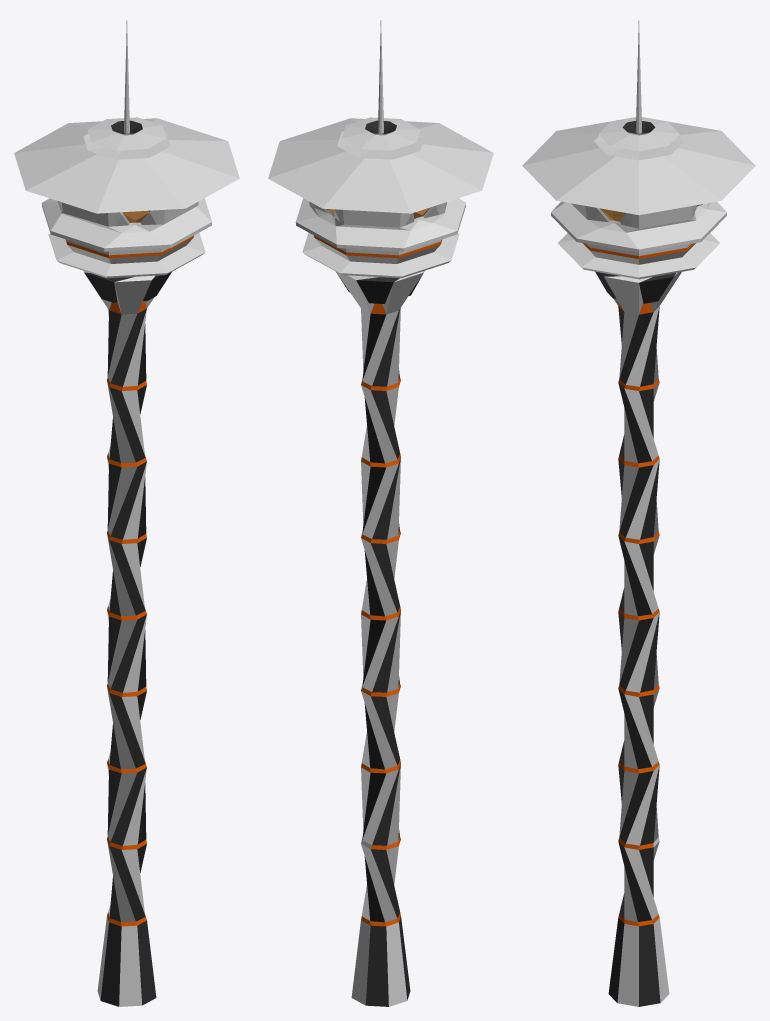
The model's file is Lightfire Main_ver3.fbx.
The picture shows the model from 3 angles, left to right: view 1: azimuth 30°, elevation 25°; view 2: azimuth 150°, elevation 25°; view 3: azimuth 270°, elevation 25°; orthographic projection.
Parts seen in each view (by area): view 1: Lightfire Top; view 2: Lightfire Top; view 3: Lightfire Top.
Boxes of the visible parts, <box> form: Lightfire Top: <box>14,20,239,1006</box>; Lightfire Top: <box>268,20,493,1006</box>; Lightfire Top: <box>522,20,755,1006</box>.
Size of the model in its own units: 1046 by 4839 by 1046.
